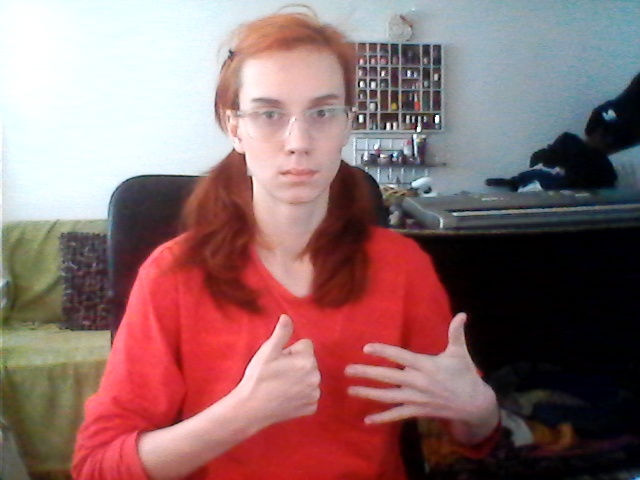sest: (245, 309, 496, 437)
